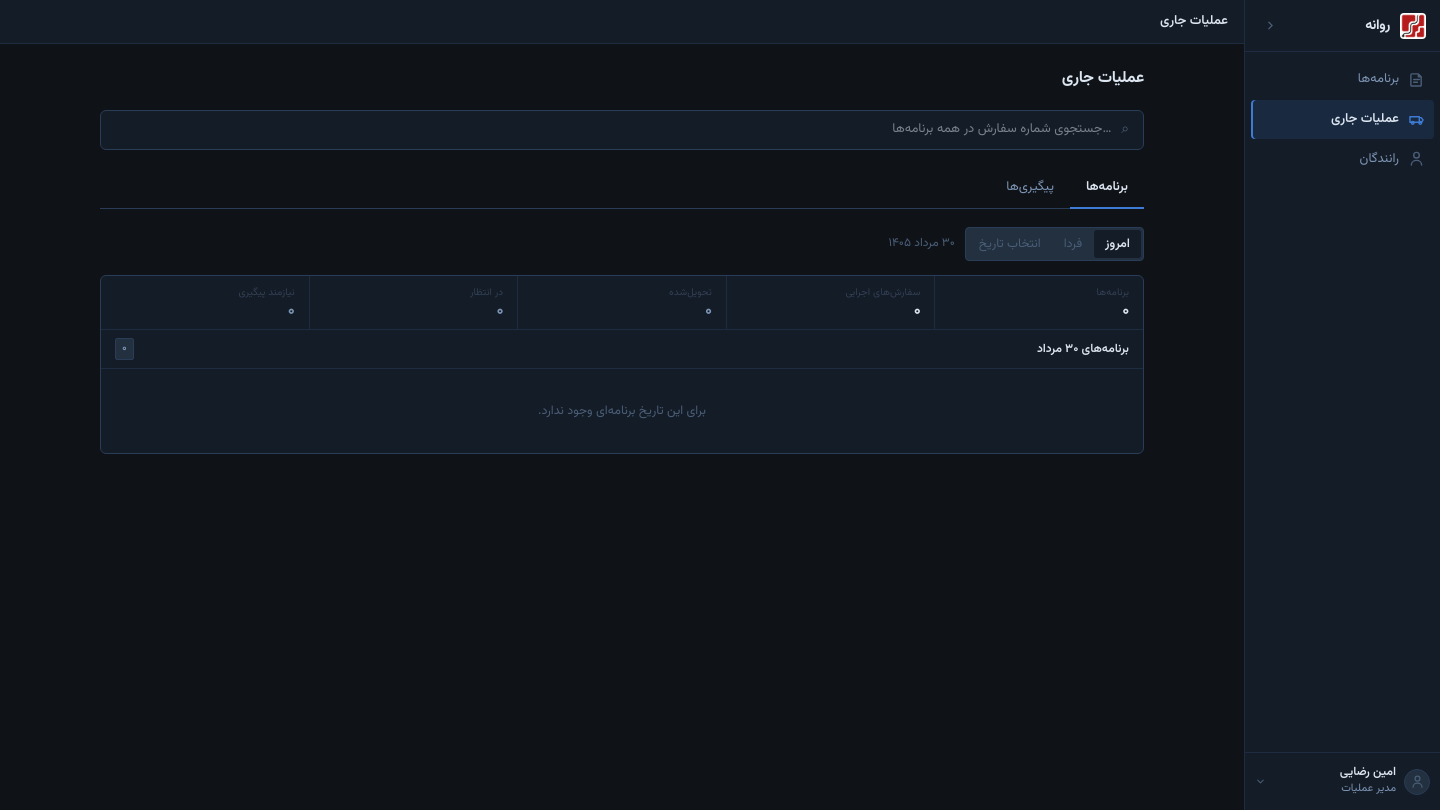
Scenario: A05 Global Order Search — UI › no result state shown for unmatched query
The width and height of the screenshot is (1440, 810).
Type "ZZZNOMATCH999" into the field with test id "ops-search-input" at (613, 130), box x1=115 y1=119 x2=1111 y2=140
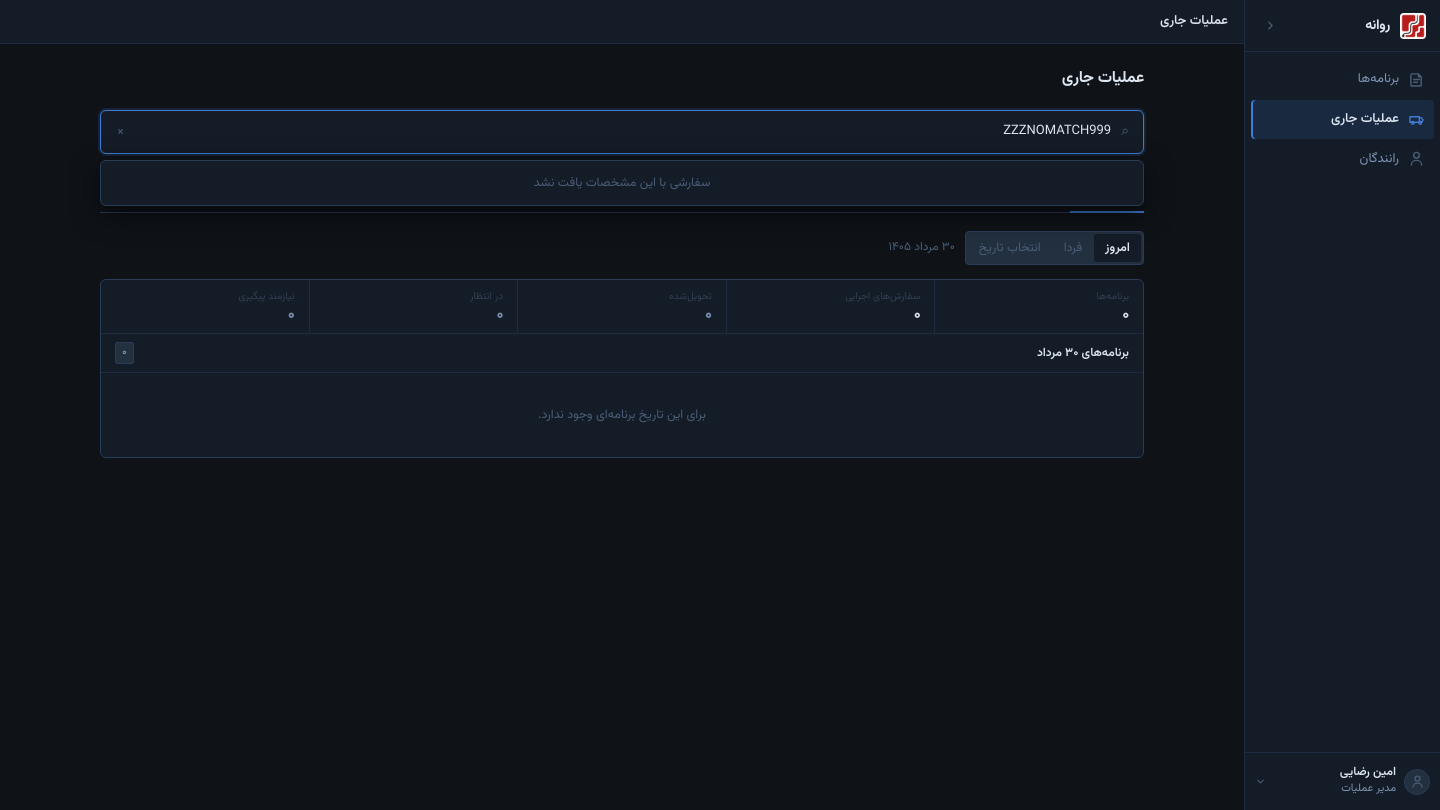
Expected: the text "سفارشی با این مشخصات یافت نشد" is shown, x1=534 y1=173 x2=710 y2=193
